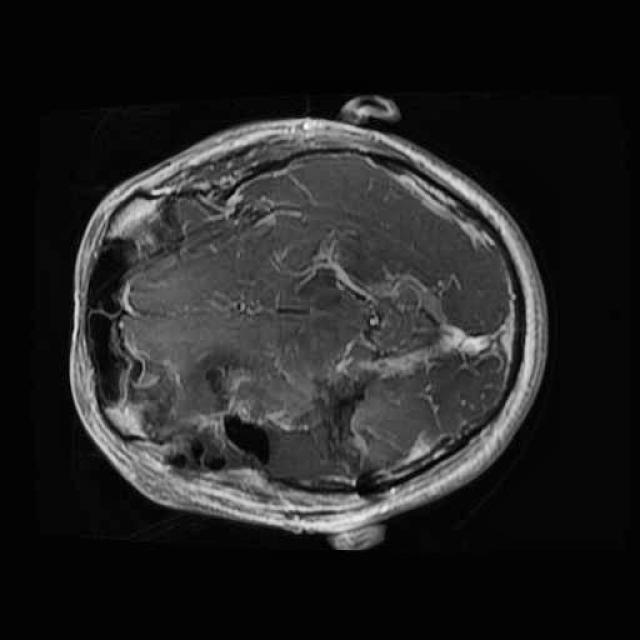Non-Tumor: (165, 330, 384, 531)
